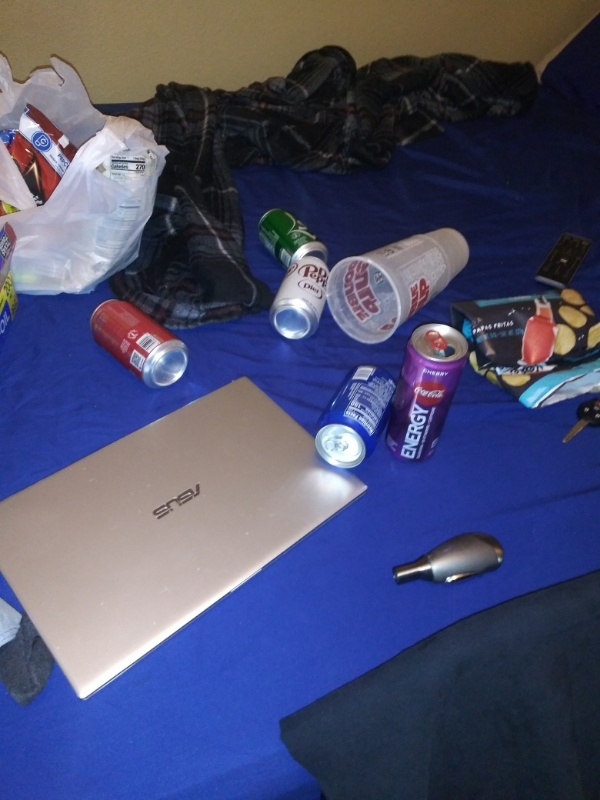can: (383, 320, 472, 464), (312, 363, 402, 471), (88, 295, 192, 387), (267, 254, 333, 341), (250, 207, 334, 270)
